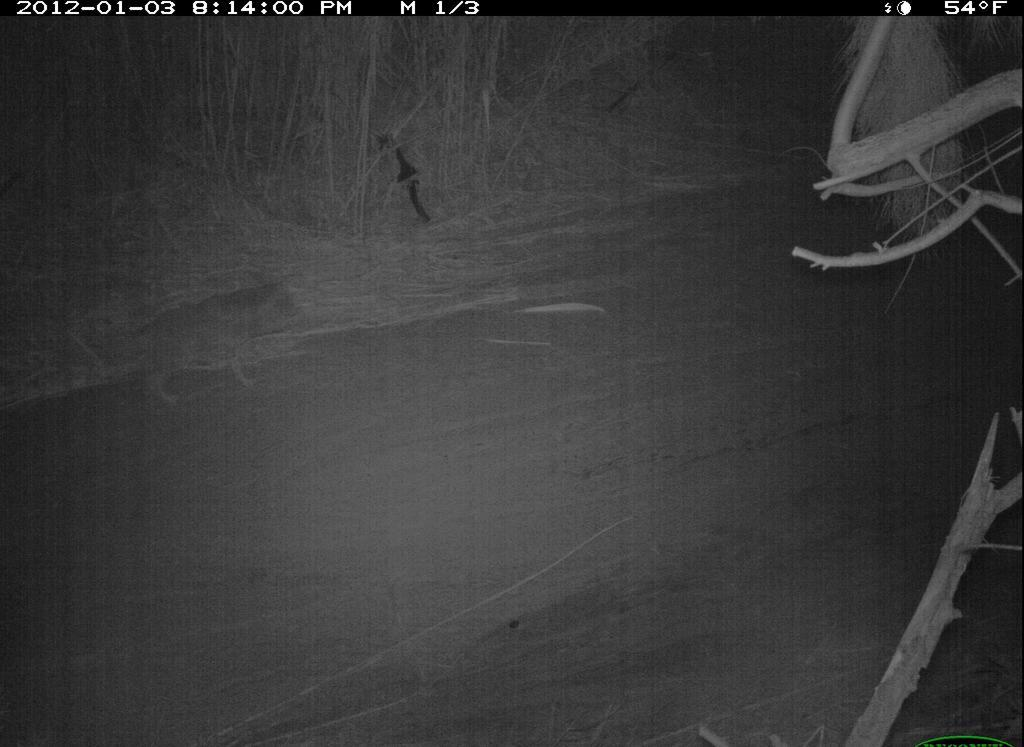coyote: (116, 264, 338, 420)
